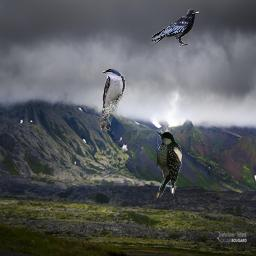Crow: (149, 8, 200, 47)
Swallow: (99, 68, 126, 130)
Woodpecker: (156, 131, 182, 198)
